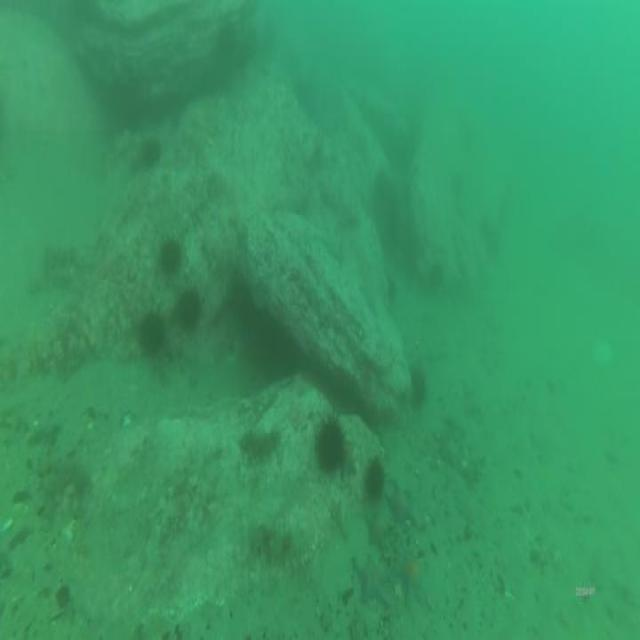echinus: (310, 408, 350, 477), (136, 305, 167, 363), (363, 455, 393, 512), (177, 282, 206, 334), (406, 359, 430, 414), (156, 232, 183, 280), (212, 18, 238, 58), (138, 132, 164, 170)
holothurian: (249, 522, 298, 570), (236, 423, 286, 468)
starfish: (348, 550, 394, 610), (394, 542, 429, 605), (384, 477, 418, 531), (362, 507, 393, 555)
